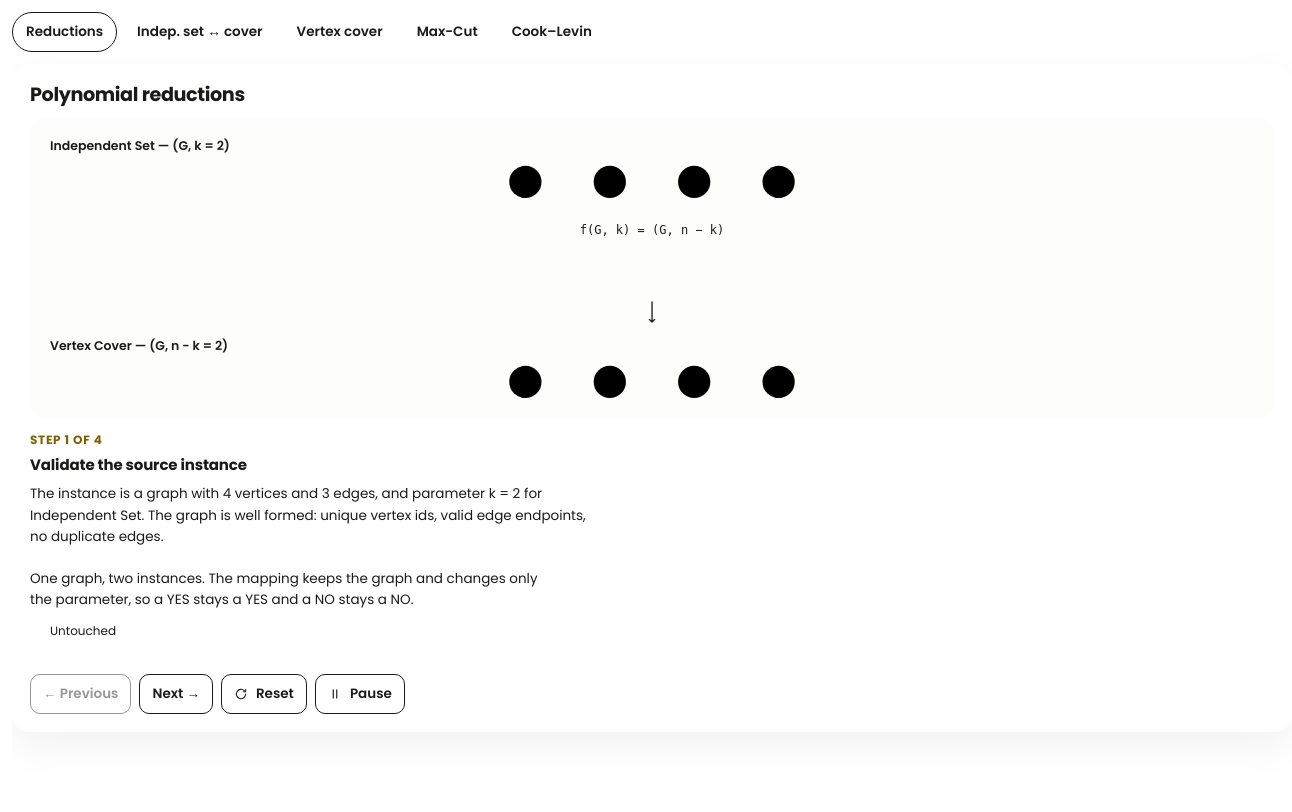
it: AlgoScene › switches scenes from the tab strip, including the tableau scene
Click the tab "Cook–Levin": (552, 32) x1=498 y1=12 x2=606 y2=52
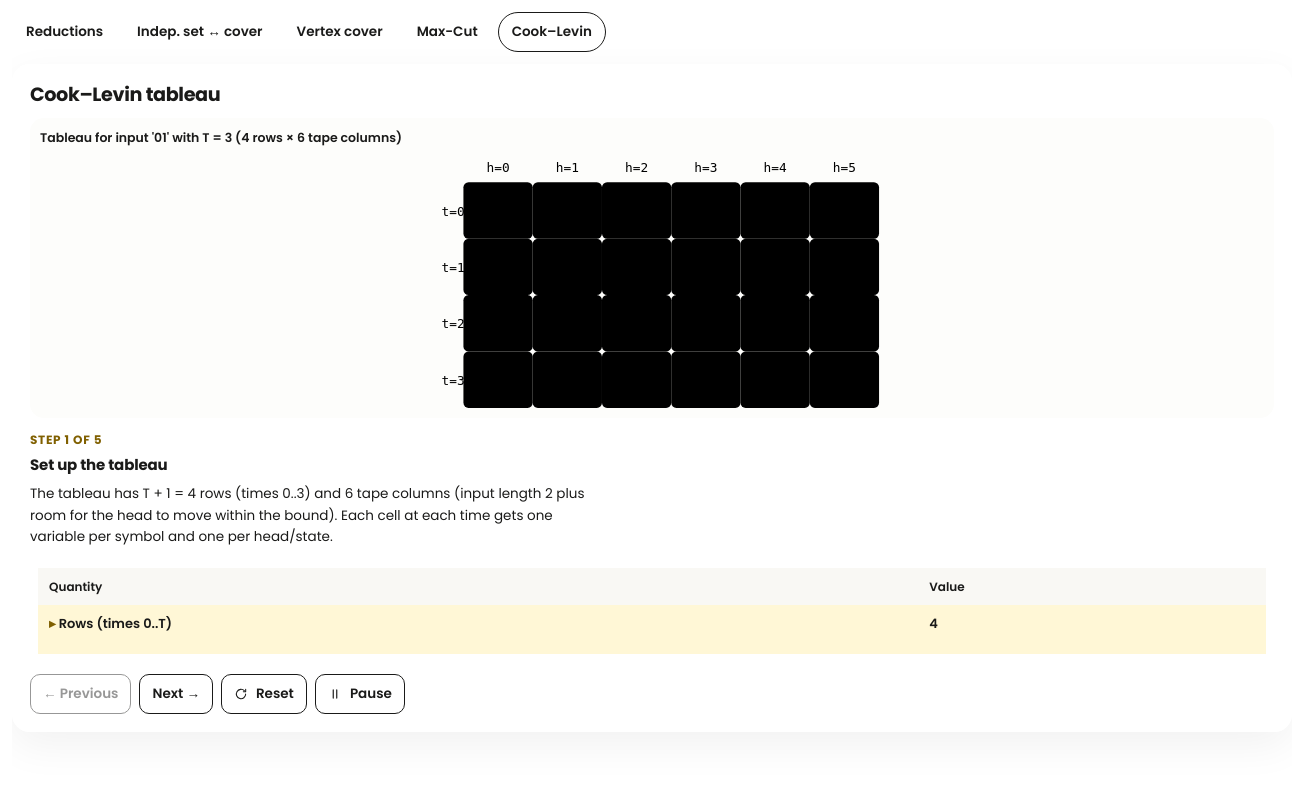
Result: the heading "Cook–Levin tableau" is shown at x1=30 y1=81 x2=220 y2=108
